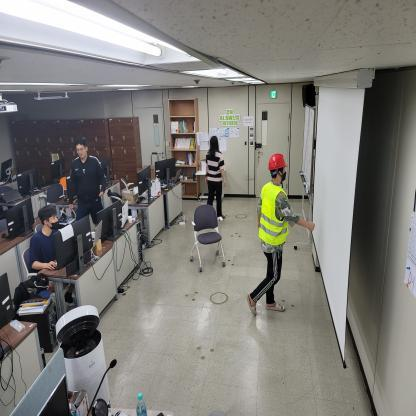Standing: (249, 154, 313, 314), (69, 137, 105, 229), (205, 136, 225, 220)
safety_equipment: (259, 182, 291, 246), (267, 154, 289, 178)
